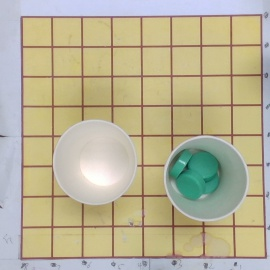cup: (53, 120, 139, 207)
cup_green: (163, 136, 250, 223)
